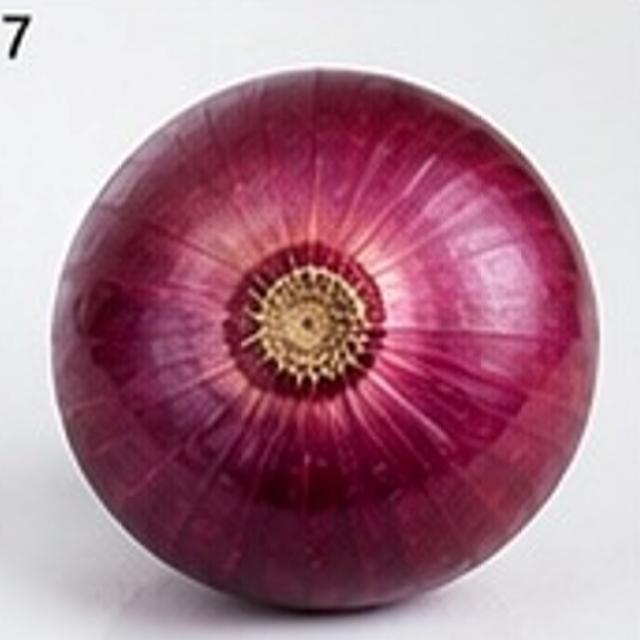healthy: (54, 71, 597, 608)
